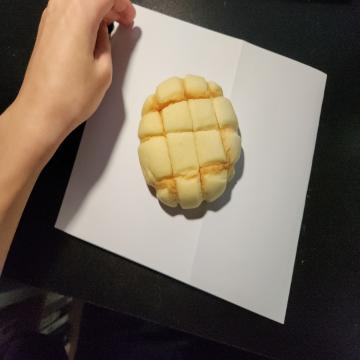melon_bread: (138, 74, 242, 210)
